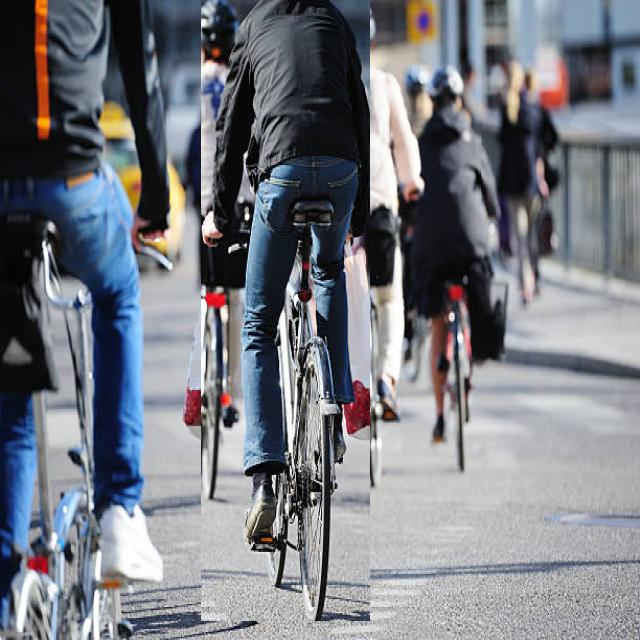bicycle: (201, 0, 370, 621)
